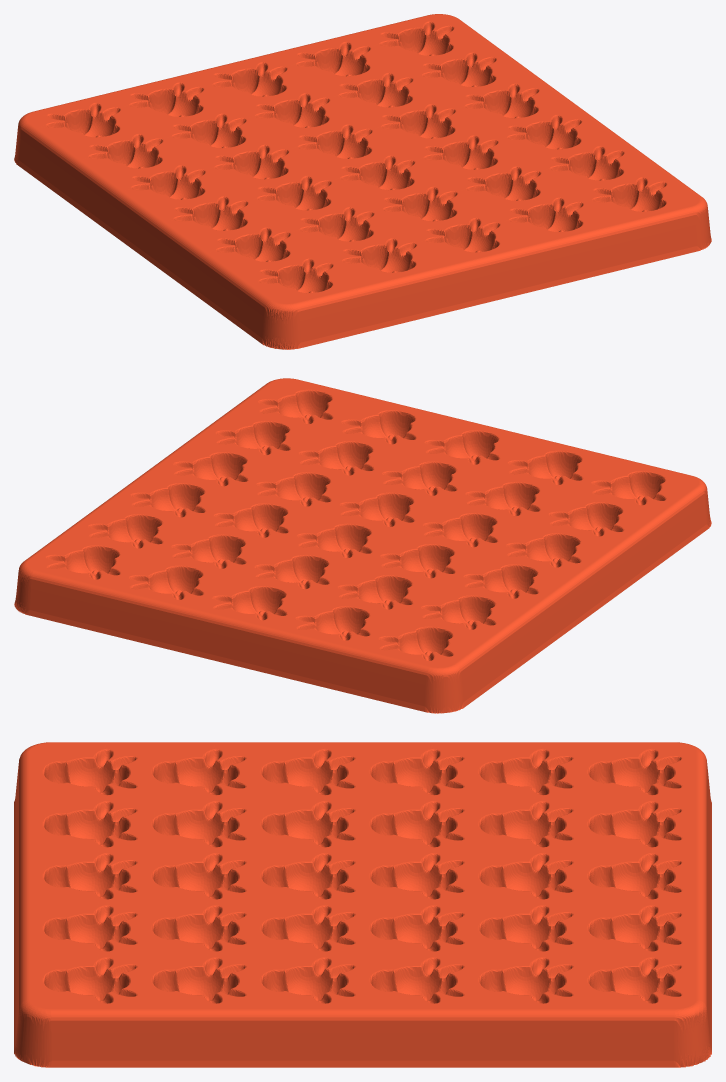
File: mold.glb
3 renders of one model, top to bottom at view 1: azimuth 30°, elevation 25°; view 2: azimuth 150°, elevation 25°; view 3: azimuth 270°, elevation 25°, orthographic. The views are drawn at different scales.
Visible parts, largest first — view 1: geometry_0; view 2: geometry_0; view 3: geometry_0.
Part boxes in pixels (x1,y1,x2,y2): geometry_0: (14,14,711,349); geometry_0: (14,378,711,713); geometry_0: (14,742,711,1067).
Bounding box in the file's own units: 0.1566 × 0.0136 × 0.1655.
